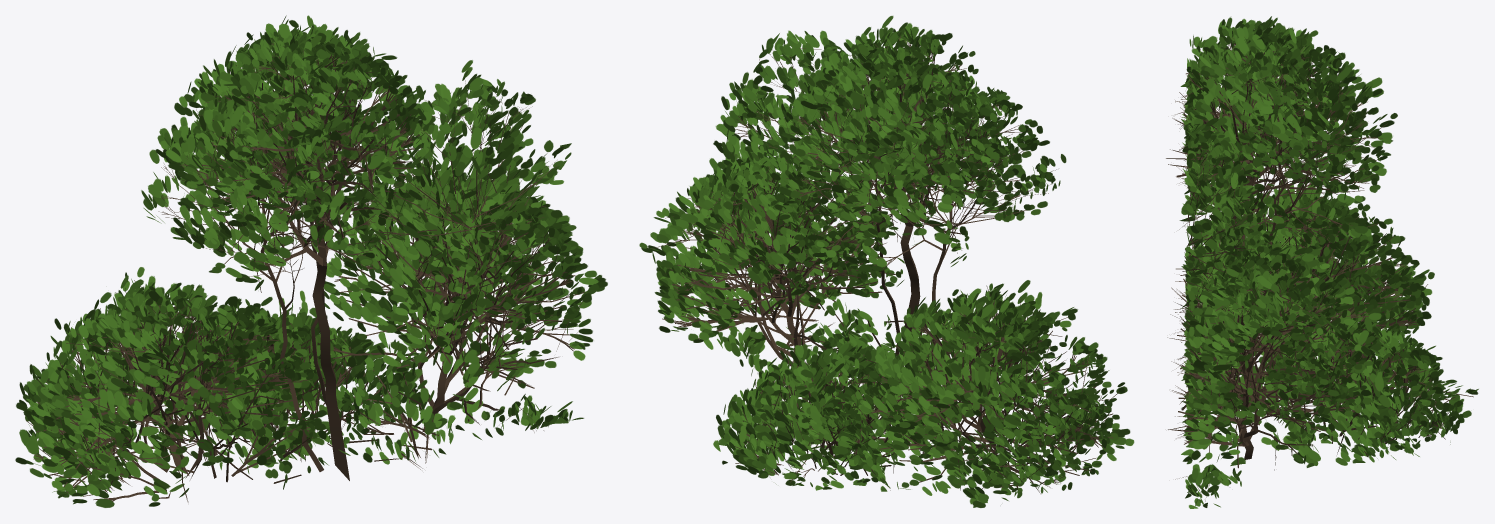
The picture shows the model from 3 angles, left to right: view 1: azimuth 30°, elevation 25°; view 2: azimuth 150°, elevation 25°; view 3: azimuth 270°, elevation 25°; orthographic projection. The views are drawn at different scales.
Parts seen in each view (by area): view 1: oak 01.001_trunk_Mat.001_0.233; view 2: oak 01.001_trunk_Mat.001_0.233; view 3: oak 01.001_trunk_Mat.001_0.233.
Boxes of the visible parts, x1,y1,x2,y2 form: oak 01.001_trunk_Mat.001_0.233: [15, 15, 607, 507]; oak 01.001_trunk_Mat.001_0.233: [639, 15, 1134, 507]; oak 01.001_trunk_Mat.001_0.233: [1166, 16, 1478, 508].
Bounding box in the file's own units: 6.15 × 4.97 × 3.56.
Materials: 2 (1 with a texture image).
